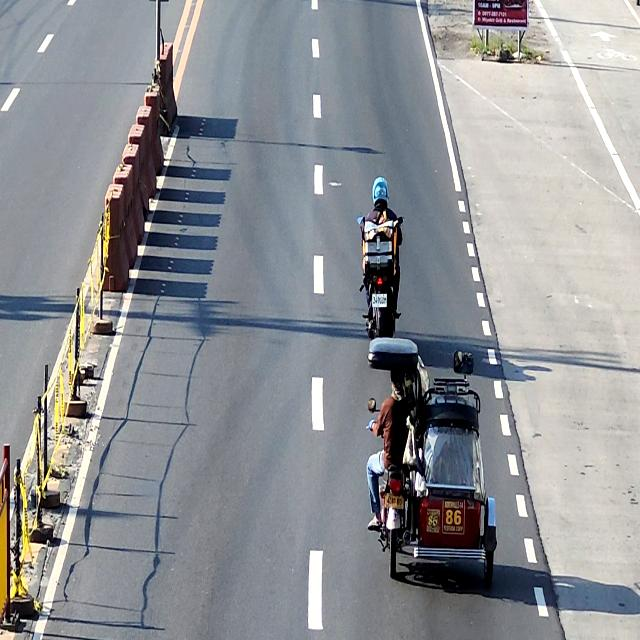License-Plate: (384, 492, 405, 508), (372, 294, 388, 308)
Motorcycle: (358, 212, 405, 337)
Tricycle: (368, 336, 498, 588)
